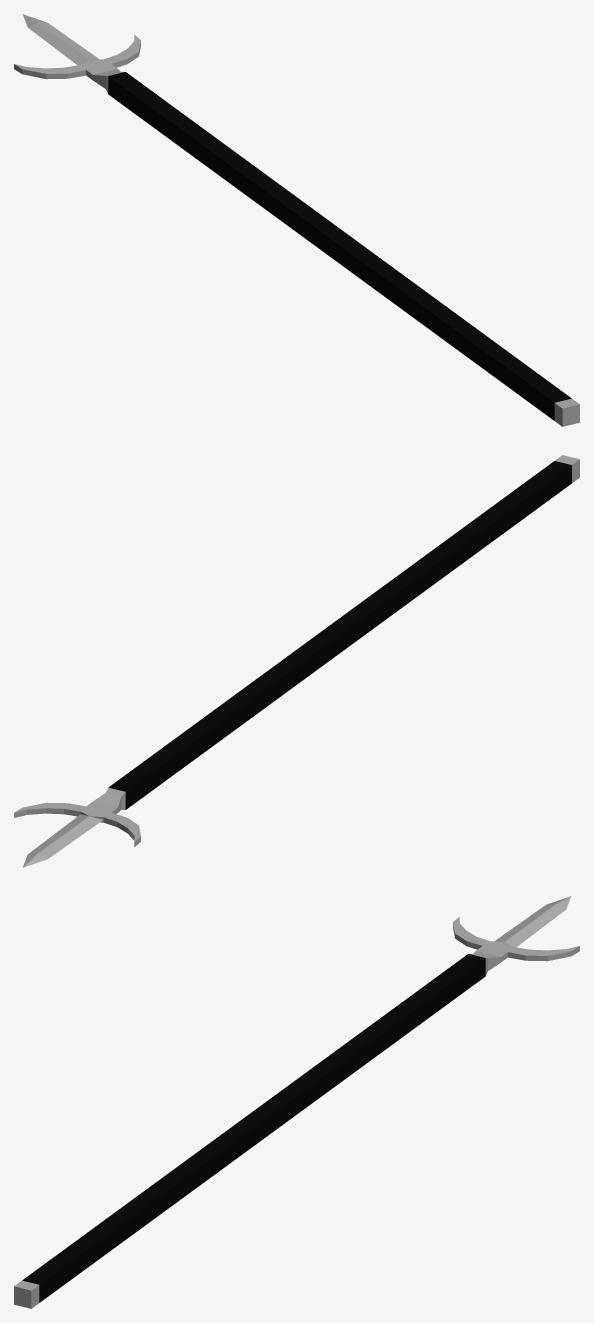
Rendered from Ju-Monji Yari - Textured Low Poly Asian Weapon Pack by Kickin It Studios.fbx.
3 renders of one model, top to bottom at view 1: azimuth 30°, elevation 25°; view 2: azimuth 150°, elevation 25°; view 3: azimuth 330°, elevation 25°, orthographic.
Visible parts, largest first — view 1: Ju-Monji Yari; view 2: Ju-Monji Yari; view 3: Ju-Monji Yari.
Boxes of the visible parts, <box> form: Ju-Monji Yari: <box>14,14,579,426</box>; Ju-Monji Yari: <box>14,455,579,867</box>; Ju-Monji Yari: <box>14,896,579,1308</box>.
Bounding box in the file's own units: 164 × 23.76 × 1292.
